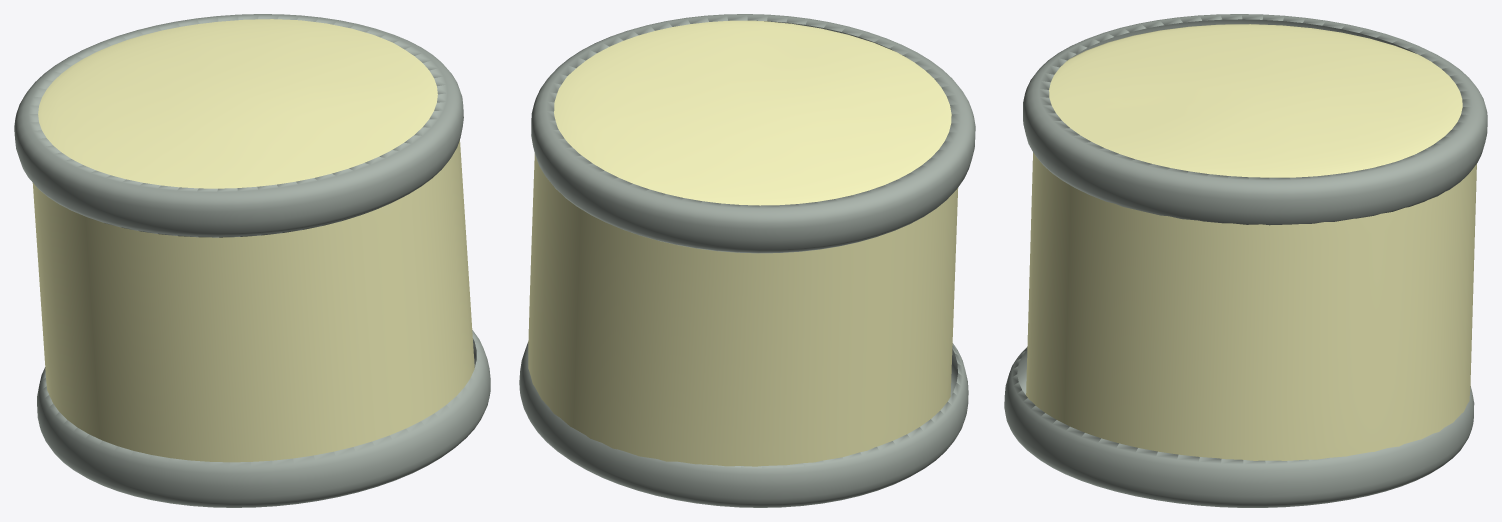
The model's file is taikof.fbx.
The picture shows the model from 3 angles, left to right: view 1: azimuth 30°, elevation 25°; view 2: azimuth 150°, elevation 25°; view 3: azimuth 270°, elevation 25°; orthographic projection. The views are drawn at different scales.
Visible parts, largest first — view 1: taiko; view 2: taiko; view 3: taiko.
Part boxes in pixels (<box>): taiko: <box>14,14,490,507</box>; taiko: <box>519,14,975,507</box>; taiko: <box>1004,14,1487,507</box>.
Bounding box in the file's own units: 19.74 × 15.39 × 19.57.
